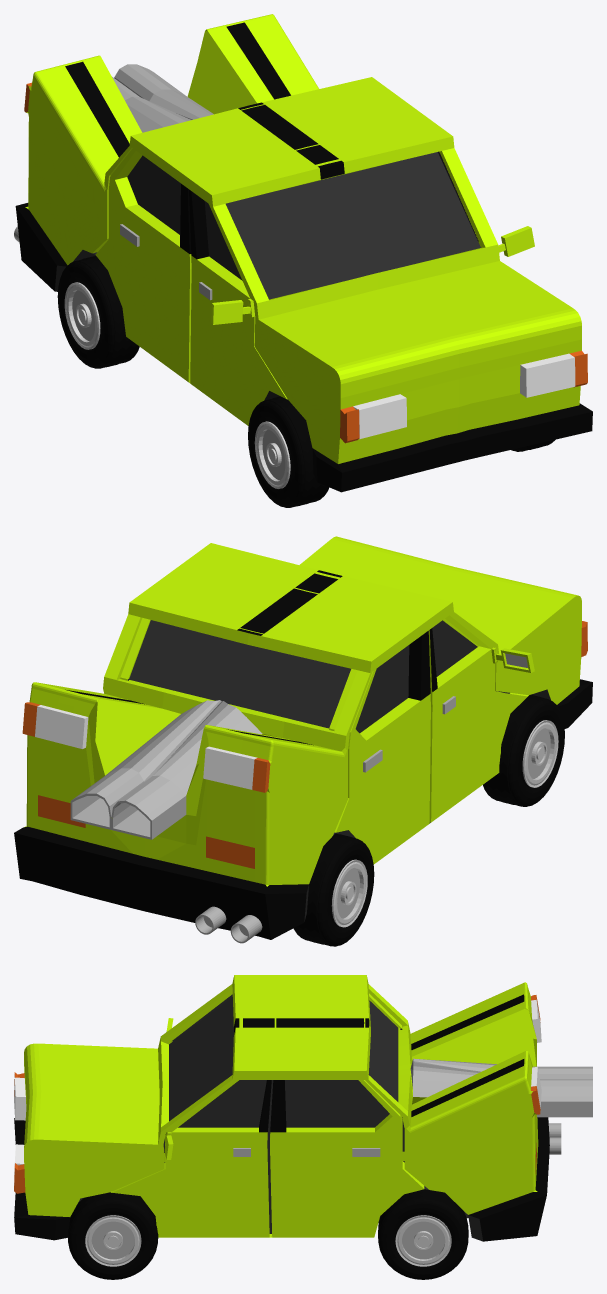
The picture shows the model from 3 angles, top to bottom: view 1: azimuth 30°, elevation 25°; view 2: azimuth 150°, elevation 25°; view 3: azimuth 270°, elevation 25°; orthographic projection. The views are drawn at different scales.
Parts seen in each view (by area): view 1: BODY37, WHEEL.004, WHEEL.001; view 2: BODY37, WHEEL.004, WHEEL.001, SHACMAN; view 3: BODY37, WHEEL.002, WHEEL.003, SHACMAN.
Part boxes in pixels (box(x1,y1,x2,y2)): BODY37: box(15, 14, 592, 492); WHEEL.004: box(57, 256, 139, 368); WHEEL.001: box(248, 396, 329, 507); BODY37: box(14, 536, 592, 939); WHEEL.004: box(293, 833, 374, 946); WHEEL.001: box(483, 694, 564, 806); SHACMAN: box(195, 906, 262, 943); BODY37: box(14, 975, 592, 1241); WHEEL.002: box(378, 1189, 468, 1279); WHEEL.003: box(68, 1192, 158, 1279); SHACMAN: box(548, 1123, 561, 1154).
Size of the model in its own units: 131 by 98.16 by 249.
